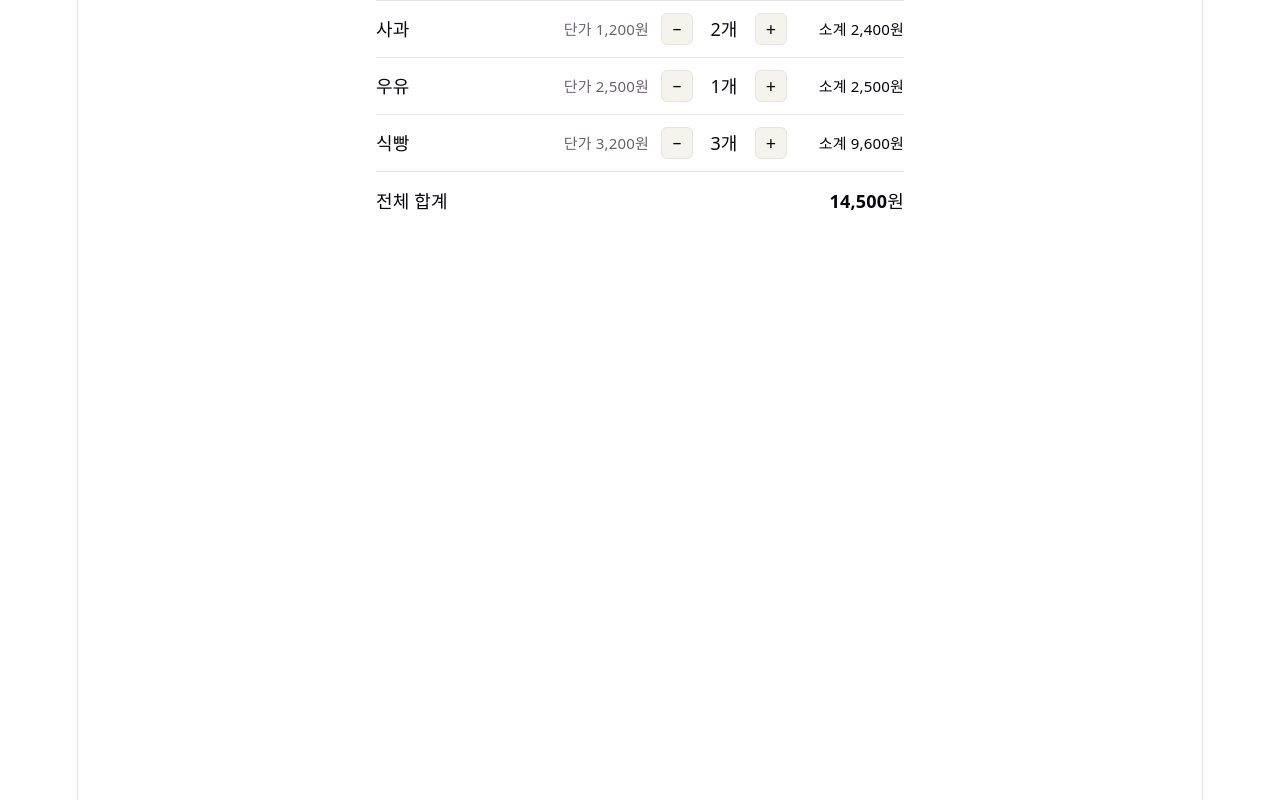
it: CartList › 수량이 0이 된 줄은 숨김이 아니라 언렌더된다 (S9·I1)
The image size is (1280, 800).
Click the button "−" in the row of "우유". click: click(677, 86)
box: [661, 70, 693, 102]
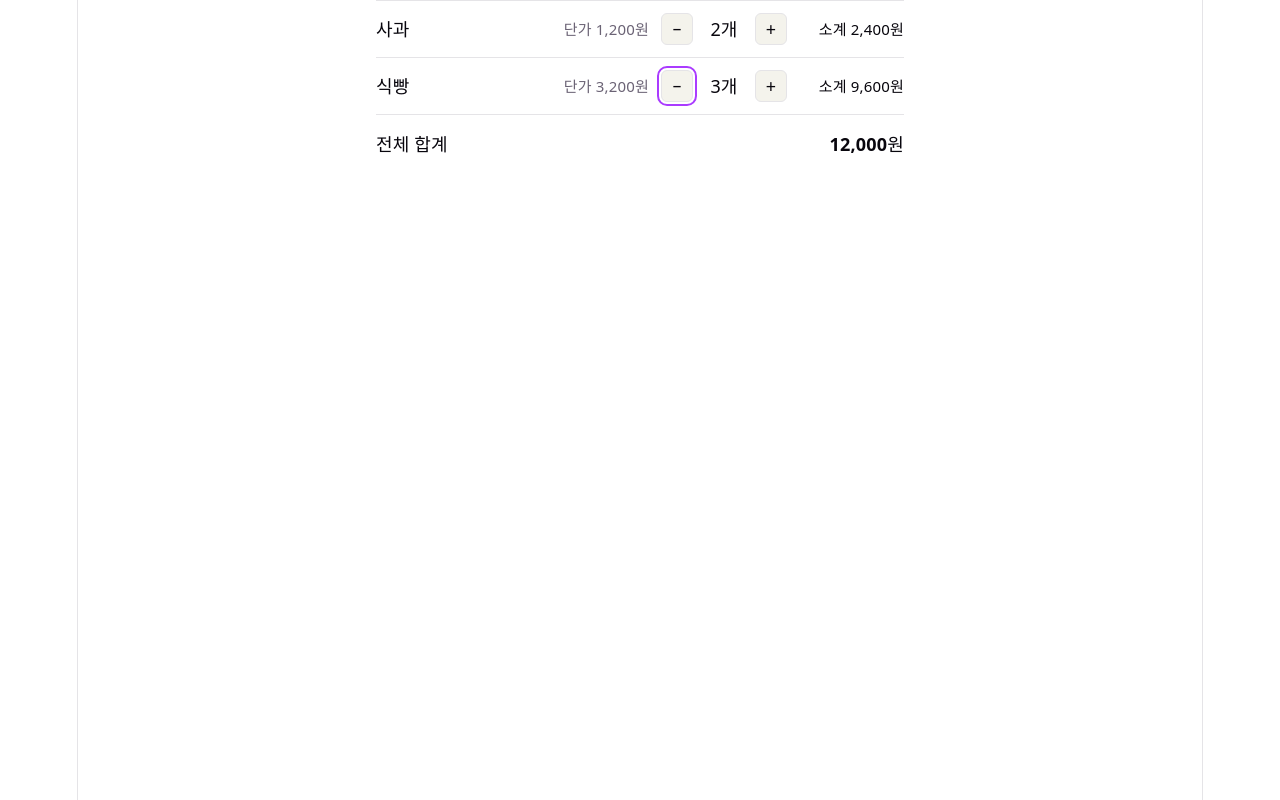
Now the text "우유" is gone
Now the number of list items is 2, box [376, 1, 904, 58]; [376, 58, 904, 115]
Now the text "12,000원" is shown, box [830, 131, 904, 157]
